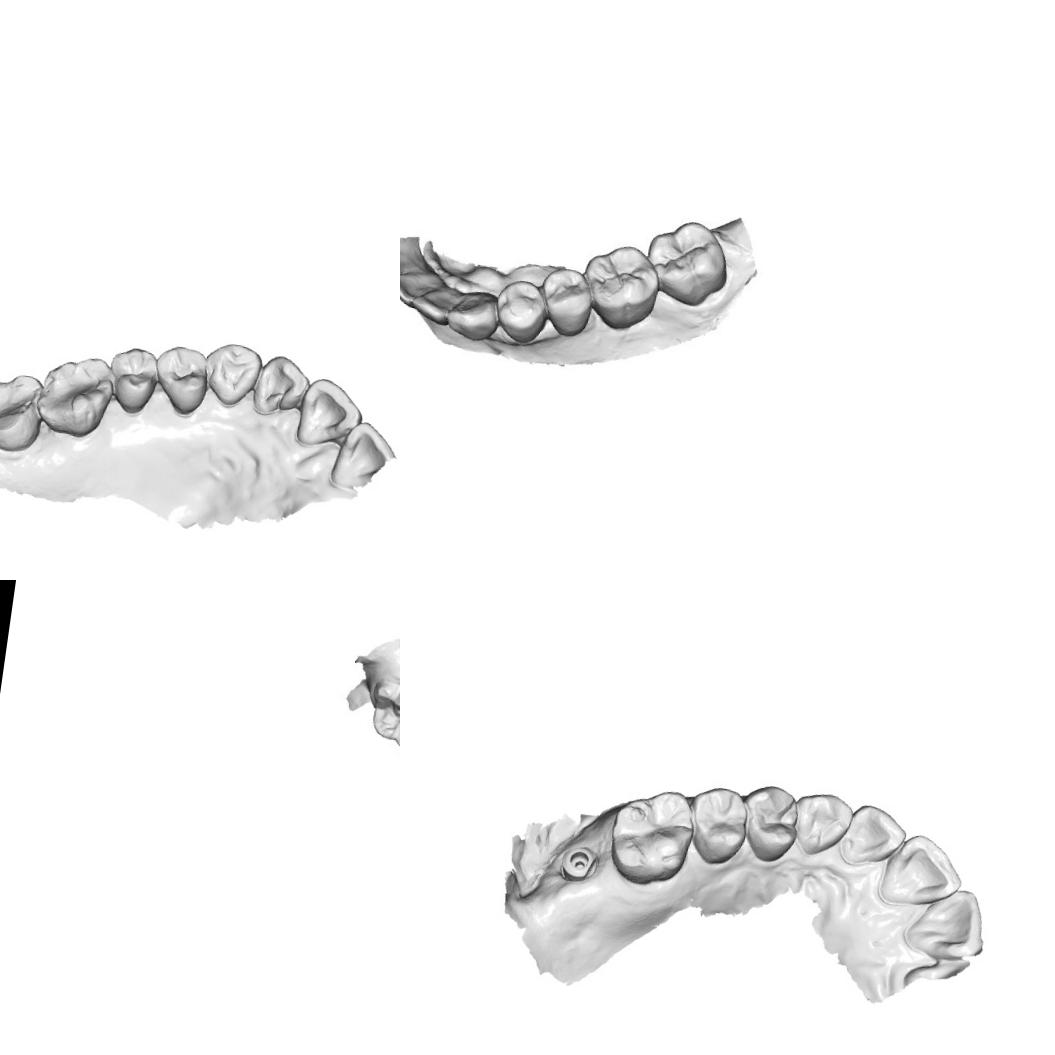canine: (789, 786, 854, 860), (201, 337, 266, 410), (444, 286, 503, 344)
implant: (559, 842, 598, 887)
incisor: (878, 828, 968, 910), (900, 880, 988, 962), (292, 374, 369, 456), (327, 416, 398, 491), (837, 797, 906, 871), (248, 351, 314, 424), (410, 282, 456, 328), (400, 264, 444, 311)
molar: (604, 782, 698, 892), (641, 216, 734, 310), (30, 346, 120, 442), (576, 239, 664, 336), (0, 367, 48, 456), (360, 668, 400, 757)
premolar: (684, 781, 752, 869), (739, 780, 802, 866), (148, 342, 216, 418), (103, 342, 166, 417), (535, 266, 596, 340), (491, 276, 552, 346)
